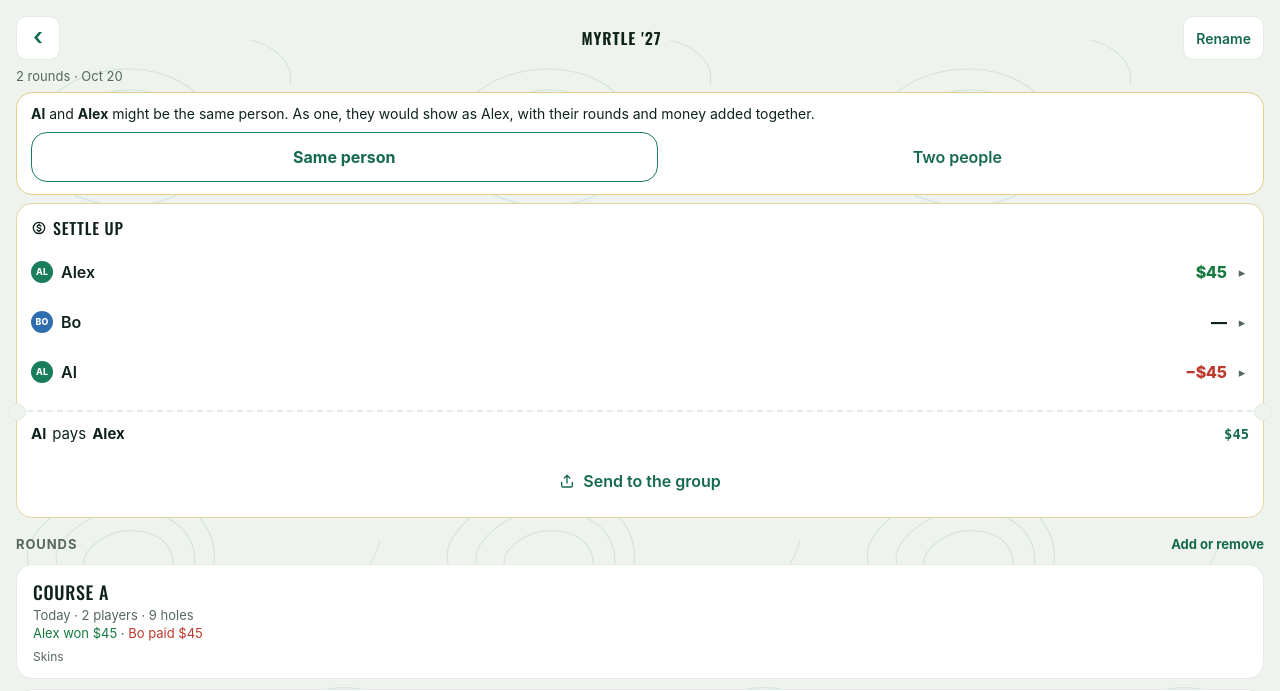
it: one person under two names › asks above the payments, and merging settles them as one
This screenshot has width=1280, height=691.
Expected: the element with class "same-person" shows "might be the same person", [108, 105, 481, 122]
Expected: the number of list items with class "net-row" is 3, [31, 248, 1249, 296]; [31, 298, 1249, 346]; [31, 348, 1249, 396]
Click the button "Same person" at {"x": 344, "y": 157}, box [31, 132, 658, 182]
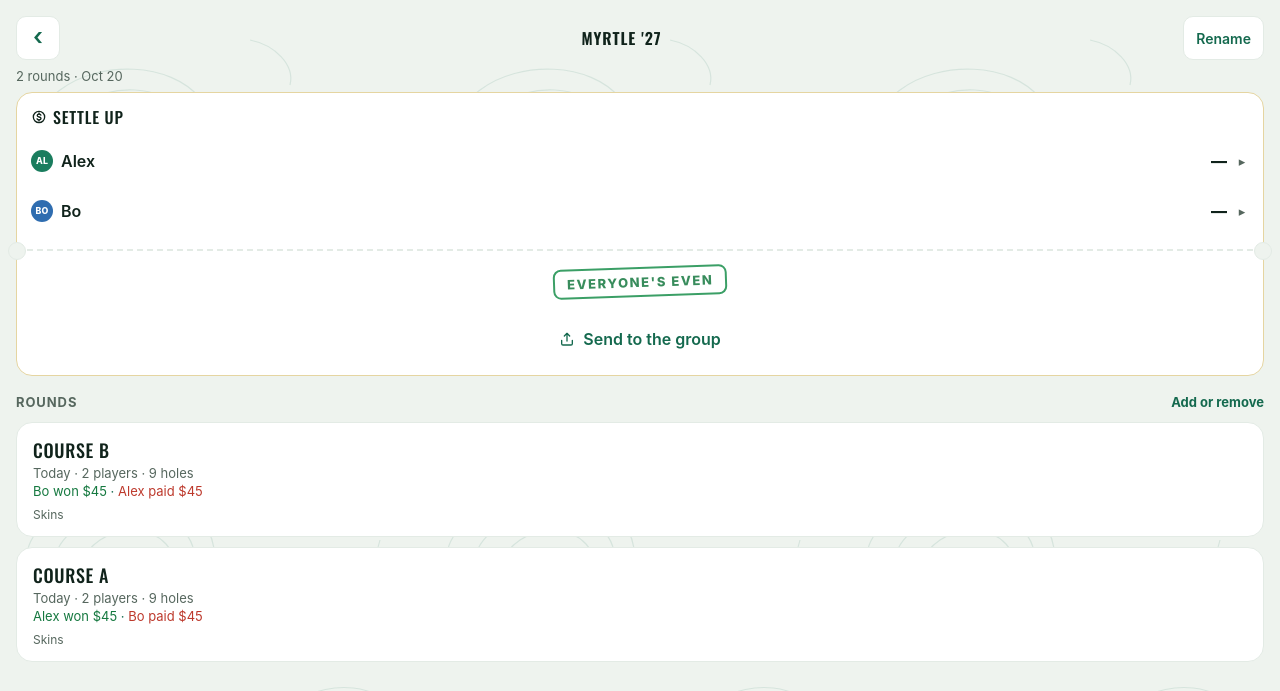
Now the element with class "same-person" is gone
Now the number of list items with class "net-row" is 2, box [31, 137, 1249, 185]; [31, 187, 1249, 235]
